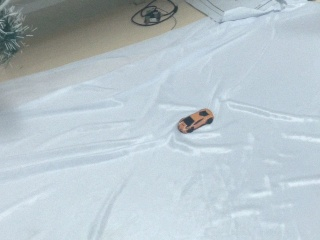toy_car: (177, 108, 214, 134)
